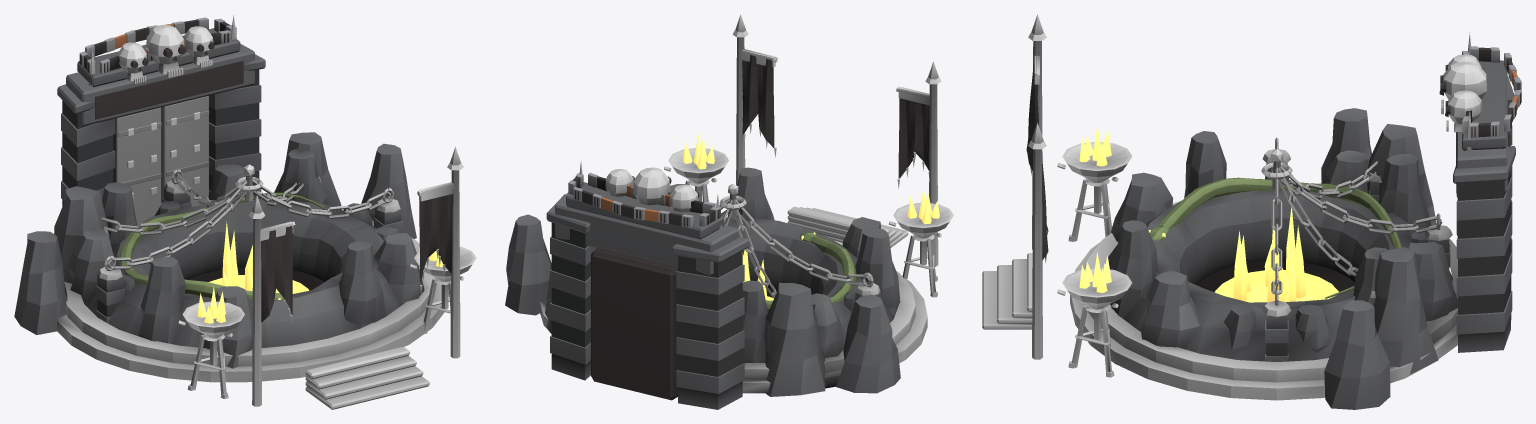
File: pit-of-tartarus-l2.glb
3 views of the same model, side by side, from view 1: azimuth 30°, elevation 25°; view 2: azimuth 150°, elevation 25°; view 3: azimuth 270°, elevation 25° (orthographic). The views are drawn at different scales.
Visible parts, largest first — view 1: pit-of-tartarus-l2; view 2: pit-of-tartarus-l2; view 3: pit-of-tartarus-l2.
Boxes of the visible parts, x1,y1,x2,y2 form: pit-of-tartarus-l2: (14, 15, 476, 409); pit-of-tartarus-l2: (505, 14, 953, 409); pit-of-tartarus-l2: (982, 14, 1521, 409).
Bounding box in the file's own units: 1.46 × 0.7596 × 1.54.
